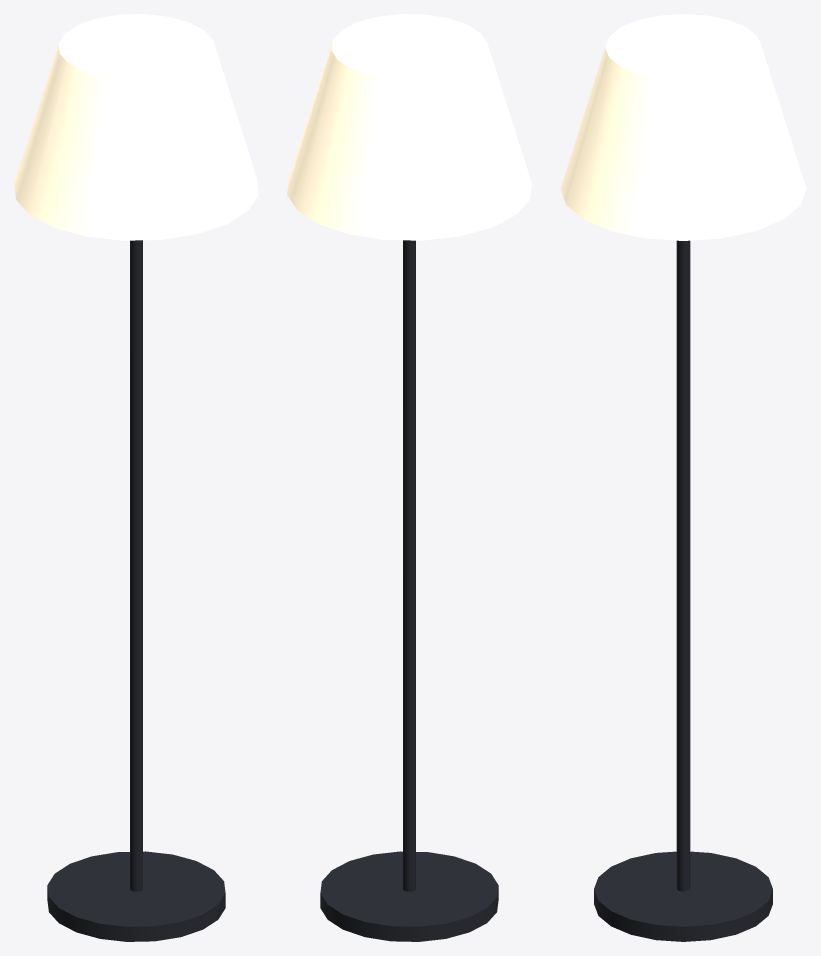
The model's file is floor_lamp.glb.
The picture shows the model from 3 angles, left to right: view 1: azimuth 30°, elevation 25°; view 2: azimuth 150°, elevation 25°; view 3: azimuth 270°, elevation 25°; orthographic projection.
Parts seen in each view (by area): view 1: FloorLamp; view 2: FloorLamp; view 3: FloorLamp.
Part boxes in pixels (left/top/right/bottom): FloorLamp: left=14, top=14, right=258, bottom=941; FloorLamp: left=287, top=14, right=531, bottom=941; FloorLamp: left=560, top=14, right=806, bottom=941.
Size of the model in its own units: 0.44 by 1.69 by 0.44.
